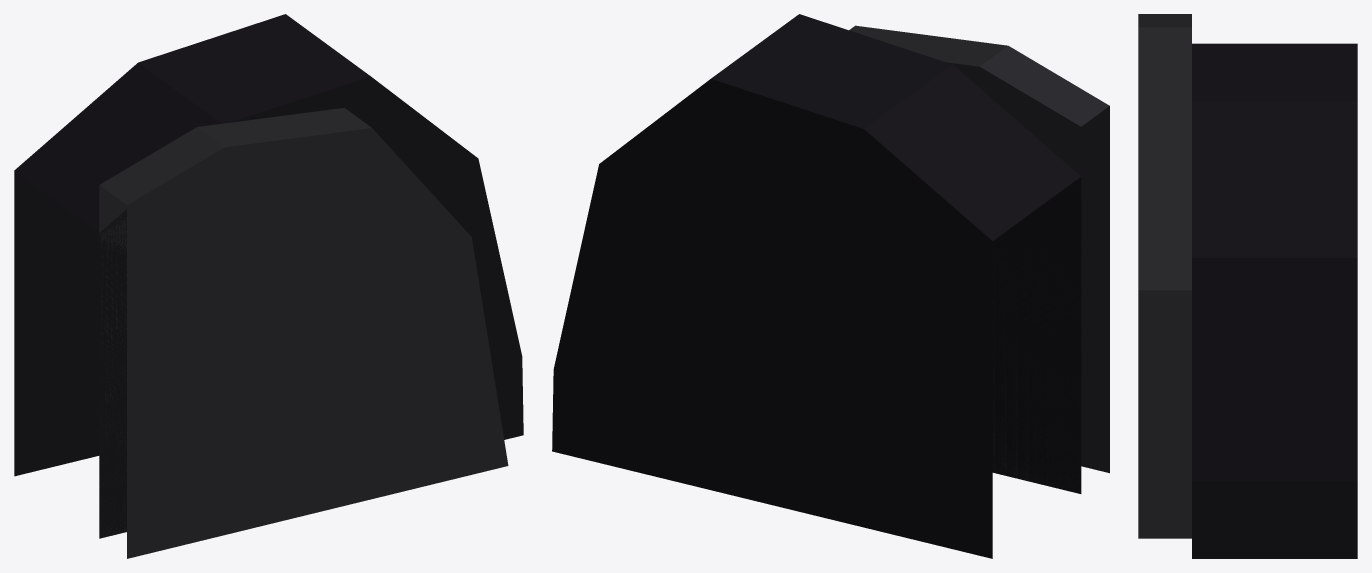
The model's file is section-13.obj.
3 renders of one model, left to right at view 1: azimuth 30°, elevation 25°; view 2: azimuth 150°, elevation 25°; view 3: azimuth 270°, elevation 25°, orthographic. The views are drawn at different scales.
Bounding box in the file's own units: 1.06 × 0.95 × 0.49.
1 material, 1 textured.
